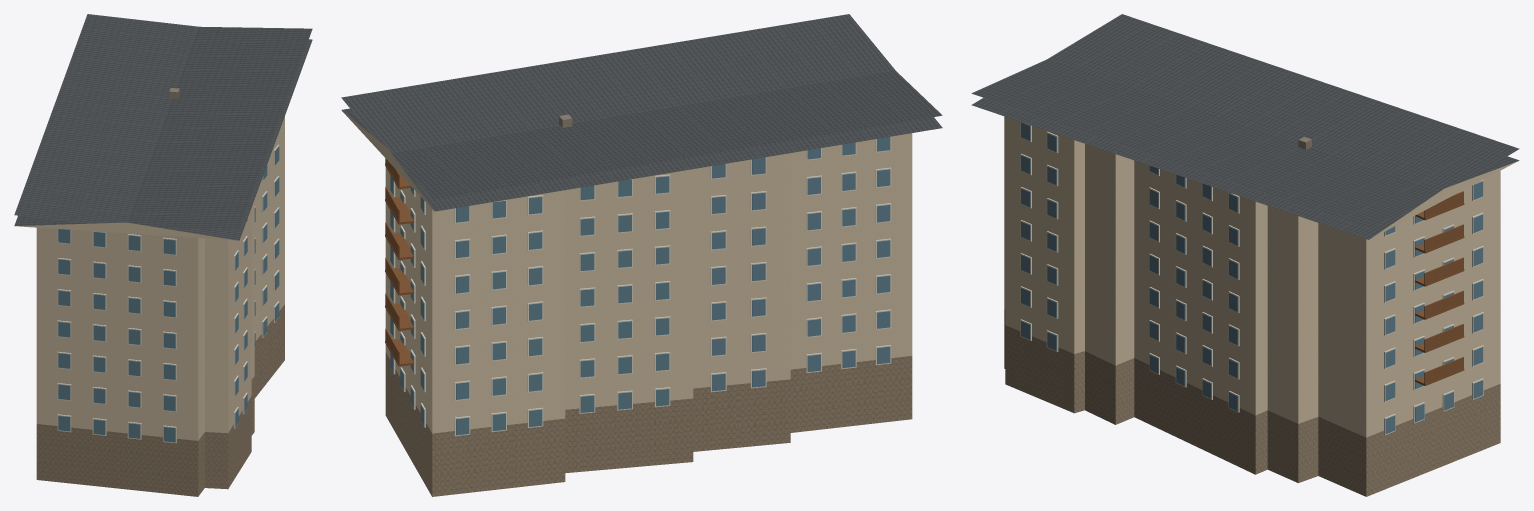
Rendered from core_0008.gltf.
3 renders of one model, left to right at view 1: azimuth 30°, elevation 25°; view 2: azimuth 150°, elevation 25°; view 3: azimuth 270°, elevation 25°, orthographic. The views are drawn at different scales.
Parts seen in each view (by area): view 1: core_0008; view 2: core_0008; view 3: core_0008.
Boxes of the visible parts, x1,y1,x2,y2 form: core_0008: (14, 14, 312, 496); core_0008: (341, 14, 942, 496); core_0008: (971, 14, 1519, 496).
Size of the model in its own units: 39.53 by 24.95 by 42.76.
Materials: 7 (7 with a texture image).
